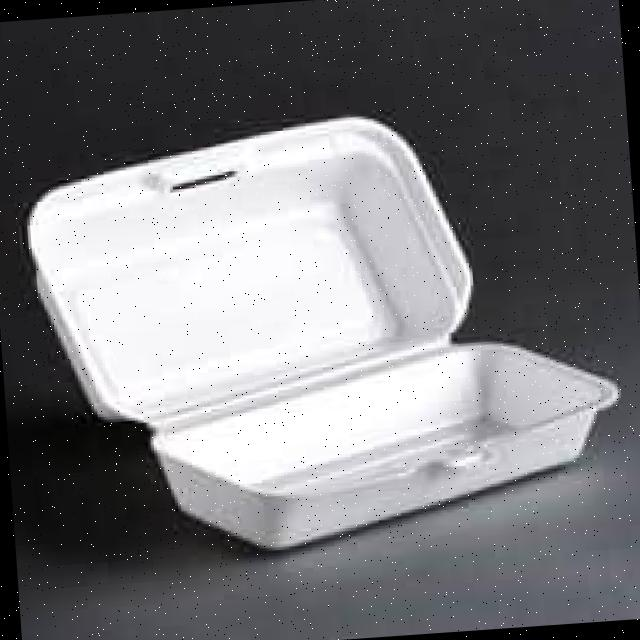styrofoam: (15, 94, 630, 566)
